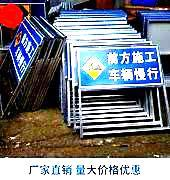sign: (78, 47, 162, 86), (9, 28, 36, 74)
